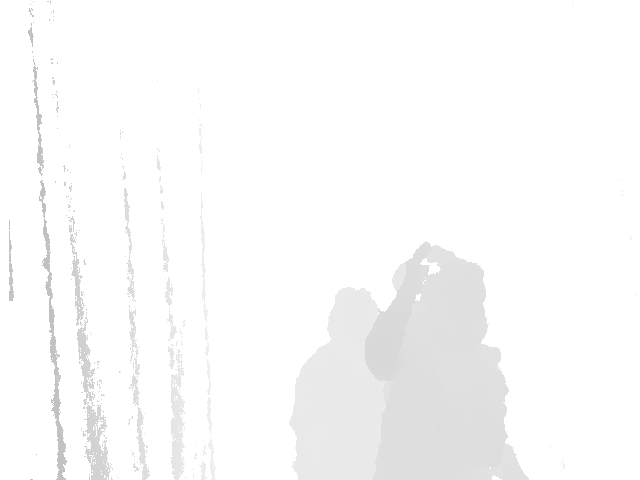head: (392, 248, 487, 342), (327, 288, 380, 349)
person: (363, 242, 533, 480), (287, 287, 397, 480)
